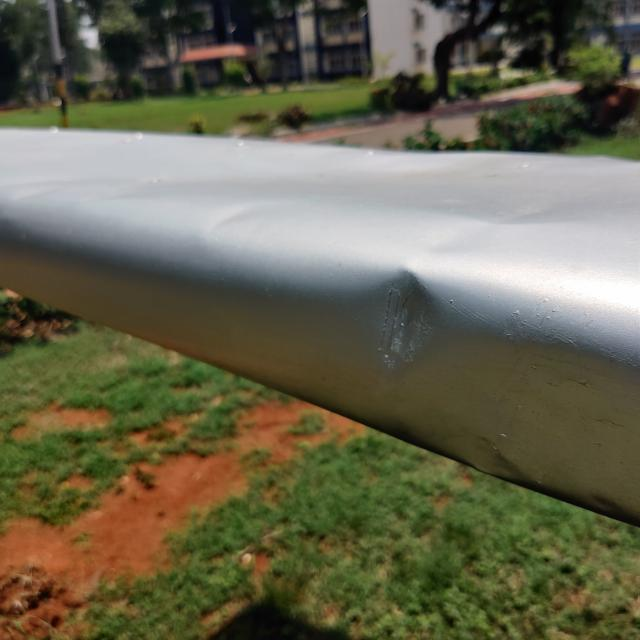dent: (344, 254, 457, 391)
